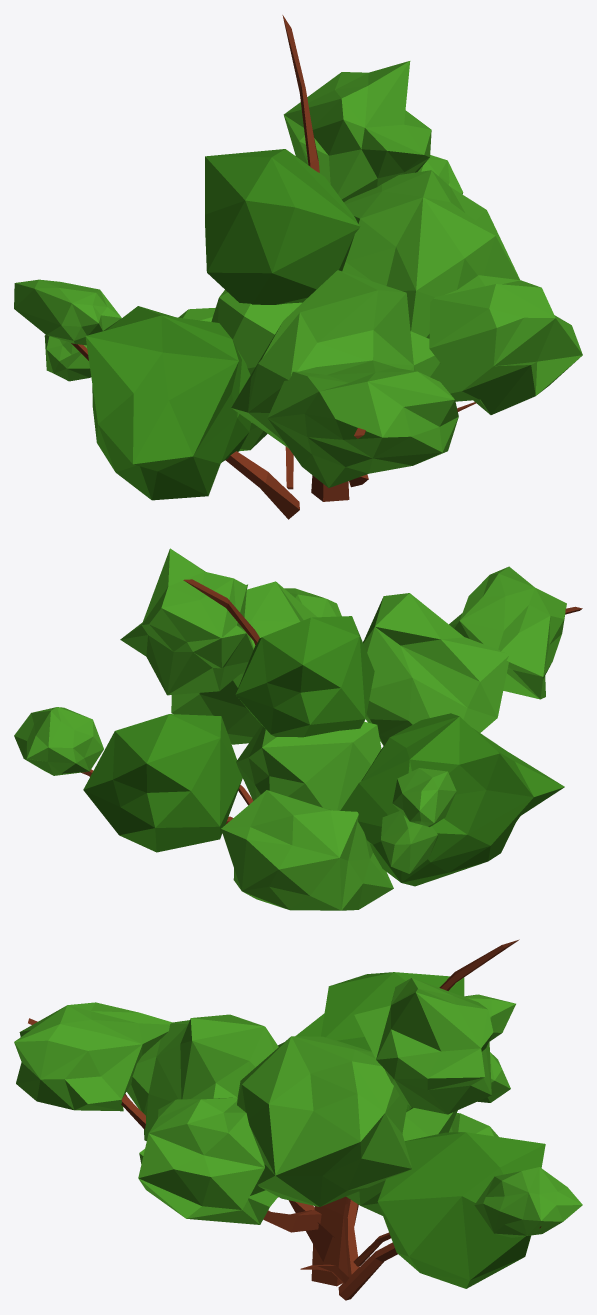
File: BushBig_001.FBX
3 renders of one model, top to bottom at view 1: azimuth 30°, elevation 25°; view 2: azimuth 150°, elevation 25°; view 3: azimuth 270°, elevation 25°, orthographic. The views are drawn at different scales.
Parts seen in each view (by area): view 1: Leaf016, Leaf018, Leaf022, Leaf023, Leaf019, Leaf017, Leaf020, Leaf027, Leaf025, Branch008, Branch010, Leaf026 (+2 smaller); view 2: Leaf016, Leaf029, Leaf021, Leaf017, Leaf018, Leaf020, Leaf022, Leaf025, Leaf023, Leaf028, Leaf027, Leaf026 (+2 smaller); view 3: Leaf023, Leaf029, Leaf019, Leaf020, Leaf022, Leaf017, Leaf028, Leaf018, Branch008, Leaf025, Branch009, Branch014 (+5 smaller).
Boxes of the visible parts, bbox=[...] form: Leaf016: bbox=[85, 306, 251, 500]; Leaf018: bbox=[205, 149, 360, 304]; Leaf022: bbox=[267, 360, 458, 487]; Leaf023: bbox=[339, 170, 519, 338]; Leaf019: bbox=[429, 275, 582, 414]; Leaf017: bbox=[231, 270, 439, 448]; Leaf020: bbox=[283, 61, 431, 201]; Leaf027: bbox=[14, 279, 121, 345]; Leaf025: bbox=[211, 290, 301, 374]; Branch008: bbox=[282, 15, 349, 501]; Branch010: bbox=[71, 343, 299, 519]; Leaf026: bbox=[44, 334, 91, 381]; Leaf016: bbox=[340, 713, 564, 886]; Leaf029: bbox=[83, 714, 242, 852]; Leaf021: bbox=[221, 790, 393, 910]; Leaf017: bbox=[363, 593, 508, 745]; Leaf018: bbox=[235, 616, 374, 737]; Leaf020: bbox=[120, 548, 253, 695]; Leaf022: bbox=[449, 566, 566, 699]; Leaf025: bbox=[236, 721, 381, 810]; Leaf023: bbox=[171, 581, 317, 744]; Leaf028: bbox=[14, 707, 103, 775]; Leaf027: bbox=[392, 768, 456, 827]; Leaf026: bbox=[381, 811, 437, 873]; Leaf023: bbox=[237, 1036, 412, 1206]; Leaf029: bbox=[377, 1132, 545, 1288]; Leaf019: bbox=[138, 1097, 277, 1224]; Leaf020: bbox=[354, 978, 493, 1114]; Leaf022: bbox=[14, 1002, 172, 1111]; Leaf017: bbox=[126, 1014, 278, 1140]; Leaf028: bbox=[474, 1167, 582, 1237]; Leaf018: bbox=[321, 972, 464, 1111]; Branch008: bbox=[311, 939, 519, 1286]; Leaf025: bbox=[346, 1108, 457, 1215]; Branch009: bbox=[28, 1018, 334, 1261]; Branch014: bbox=[338, 1226, 541, 1300].
Bounding box in the file's own units: 14.59 × 12.2 × 16.29.
